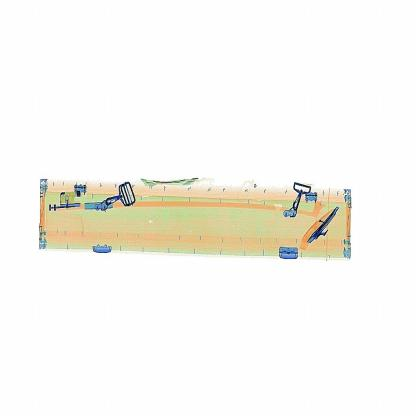pliers: (303, 199, 343, 249)
